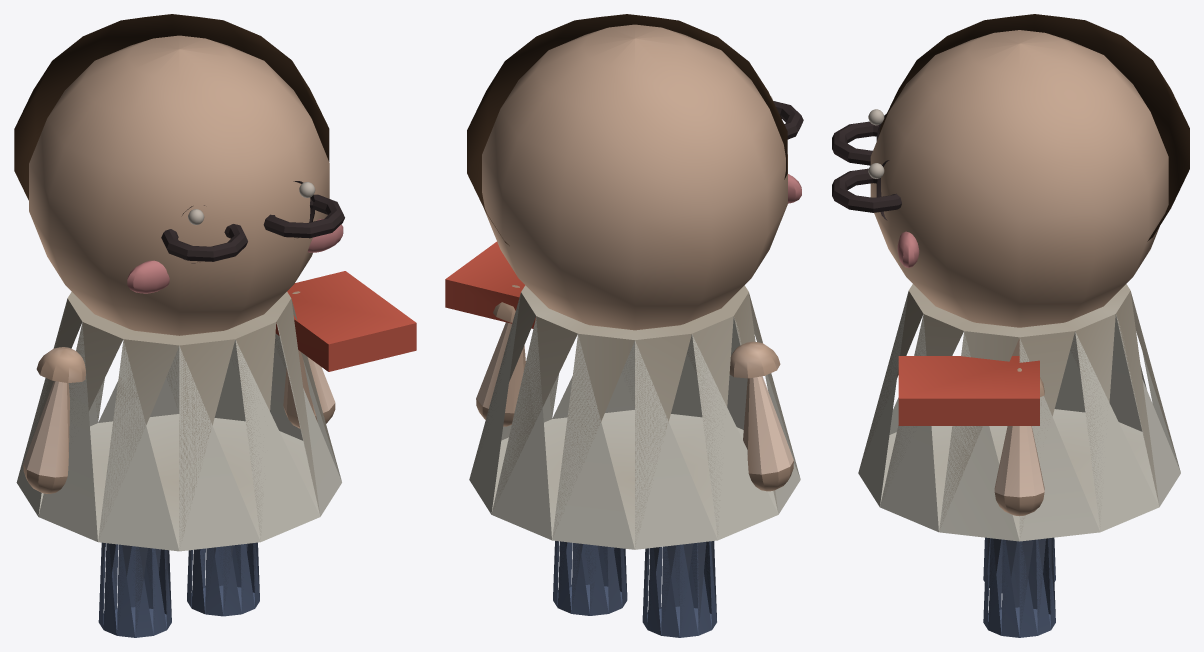
3 renders of one model, left to right at view 1: azimuth 30°, elevation 25°; view 2: azimuth 150°, elevation 25°; view 3: azimuth 270°, elevation 25°, orthographic. The views are drawn at different scales.
Parts seen in each view (by area): view 1: pet_p68552151; view 2: pet_p68552151; view 3: pet_p68552151.
Boxes of the visible parts, x1=… form: pet_p68552151: x1=14, y1=14, x2=416, y2=637; pet_p68552151: x1=445, y1=14, x2=803, y2=637; pet_p68552151: x1=832, y1=14, x2=1189, y2=637.
Size of the model in its own units: 0.3732 by 0.625 by 0.3546.
